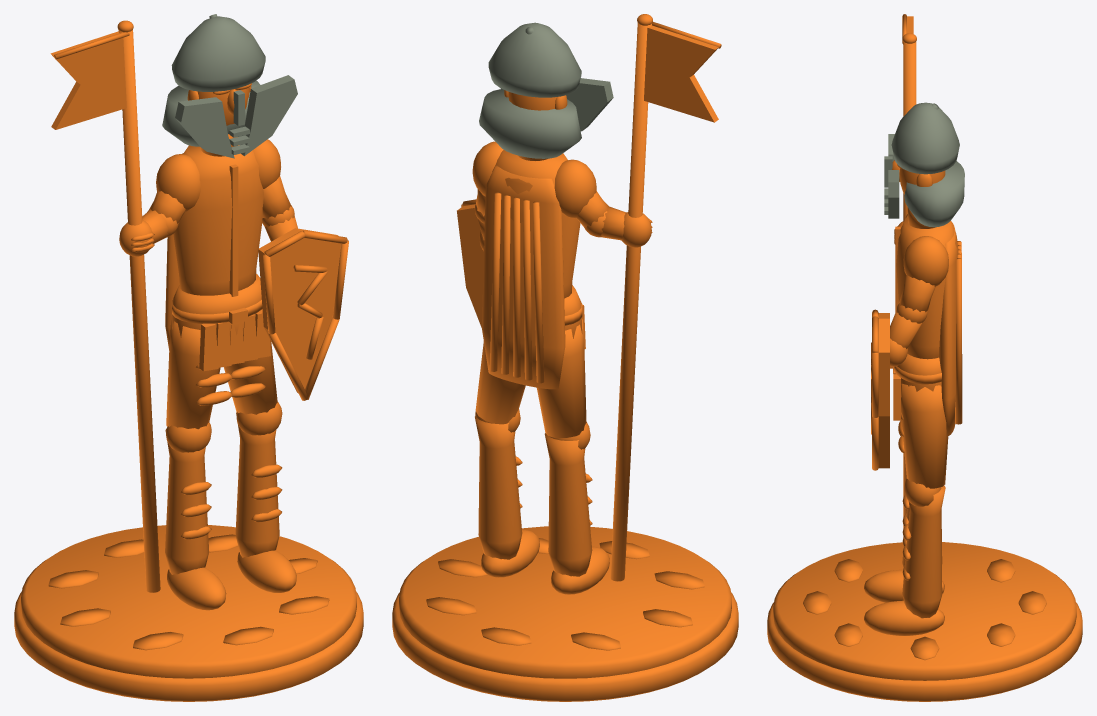
The model's file is knight-orange-level-2-helmet.fbx.
The picture shows the model from 3 angles, left to right: view 1: azimuth 30°, elevation 25°; view 2: azimuth 150°, elevation 25°; view 3: azimuth 270°, elevation 25°; orthographic projection. The views are drawn at different scales.
Visible parts, largest first — view 1: Knight_Level_2_Helmet_Sculpt; view 2: Knight_Level_2_Helmet_Sculpt; view 3: Knight_Level_2_Helmet_Sculpt.
Boxes of the visible parts, <box> form: Knight_Level_2_Helmet_Sculpt: <box>14,14,363,701</box>; Knight_Level_2_Helmet_Sculpt: <box>392,14,738,701</box>; Knight_Level_2_Helmet_Sculpt: <box>767,14,1082,701</box>.
Bounding box in the file's own units: 0.012 × 0.024 × 0.012.
